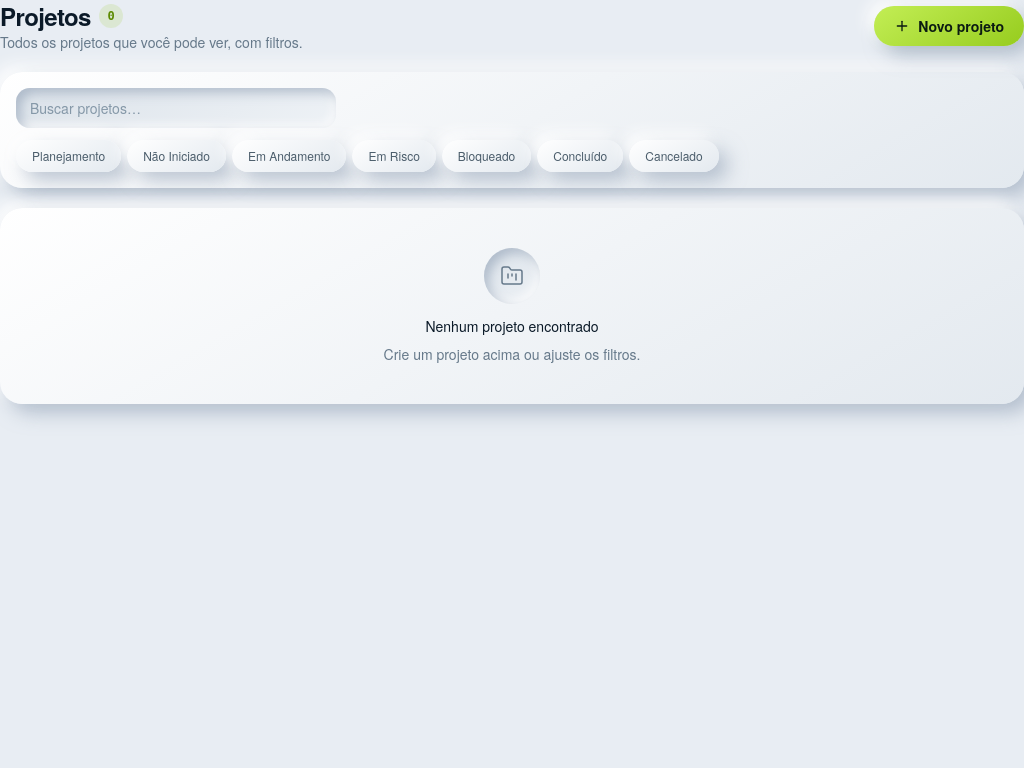
Test: Projects page › creates a project through the creation dialog and shows it in the list
expect the text "Nenhum projeto encontrado" is shown: met, box [425,316,598,336]
Click the button "Novo projeto" at point(949, 26), box [874,6,1023,46]
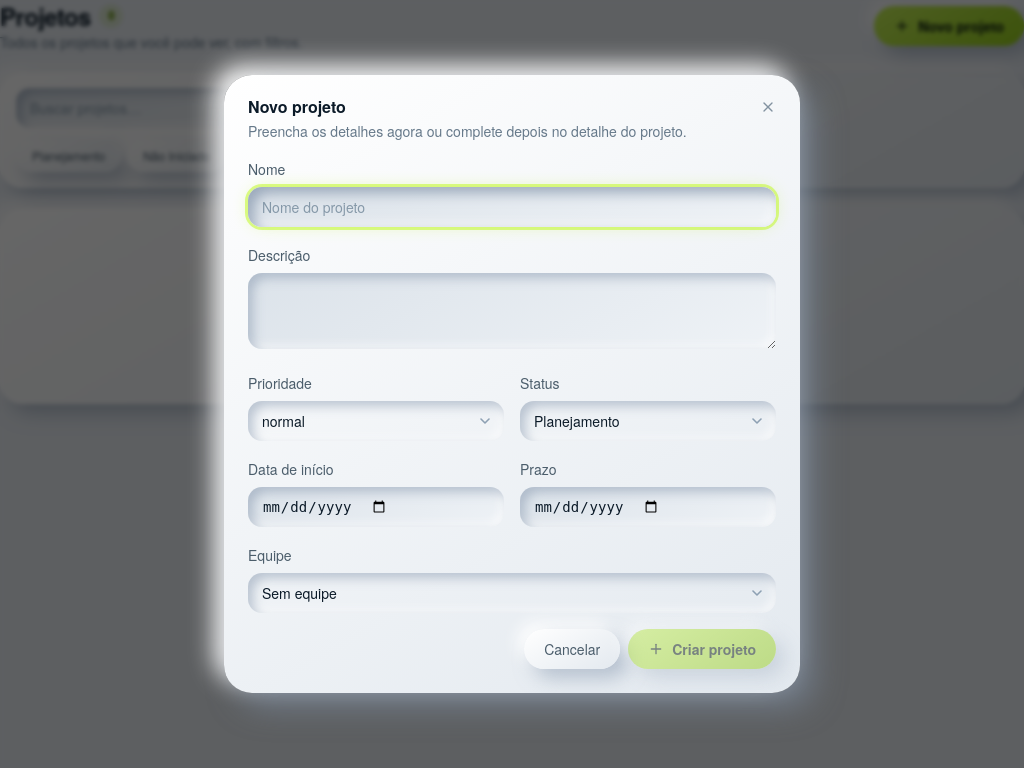
Type "Projeto recém-criado" into the field labelled "Nome" at point(512, 207), box [248,187,776,227]
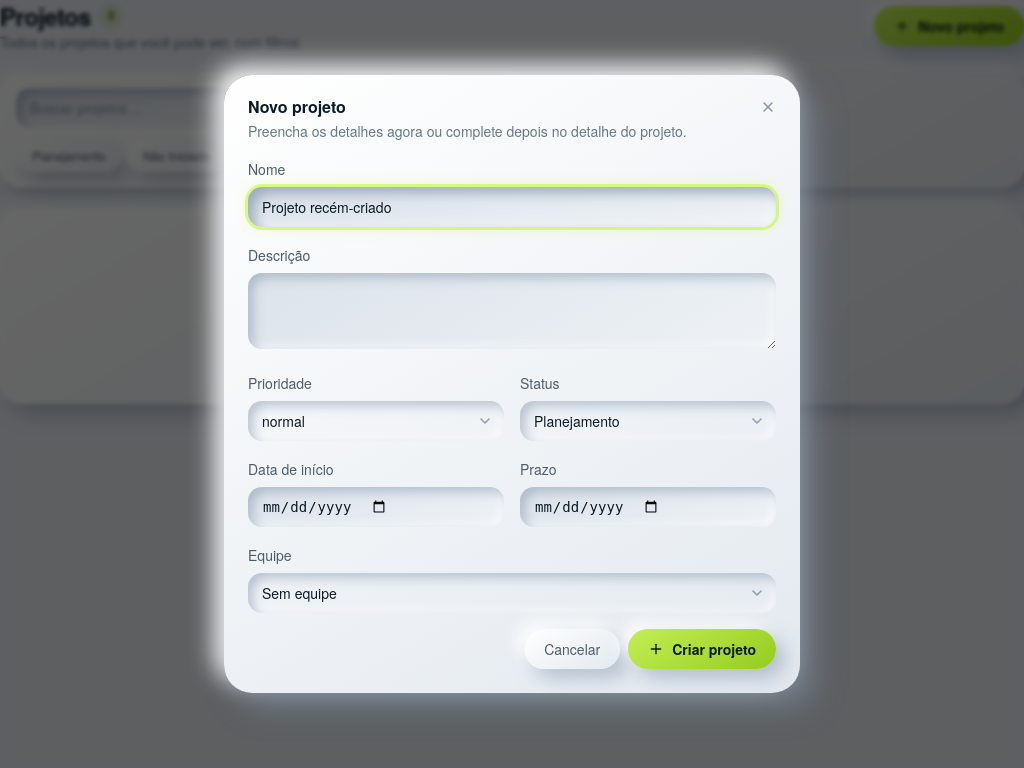
Click the button "Criar projeto" at point(702, 649), box [628,629,776,669]
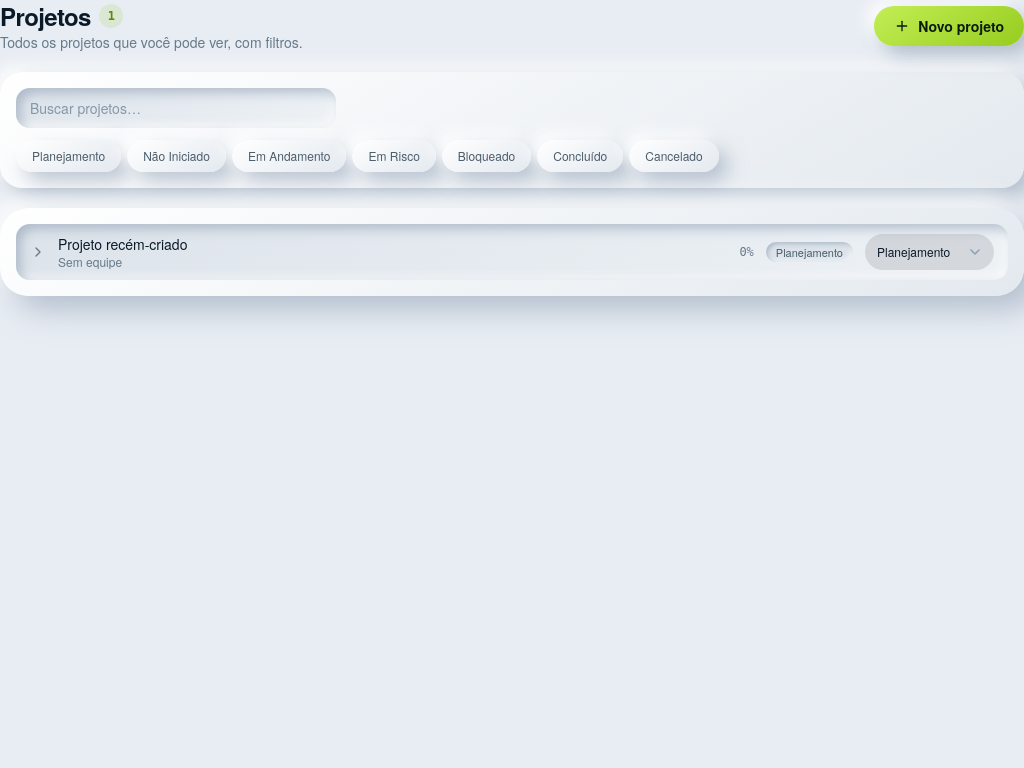
expect the text "Projeto recém-criado" is shown: met, box [58,234,187,254]
